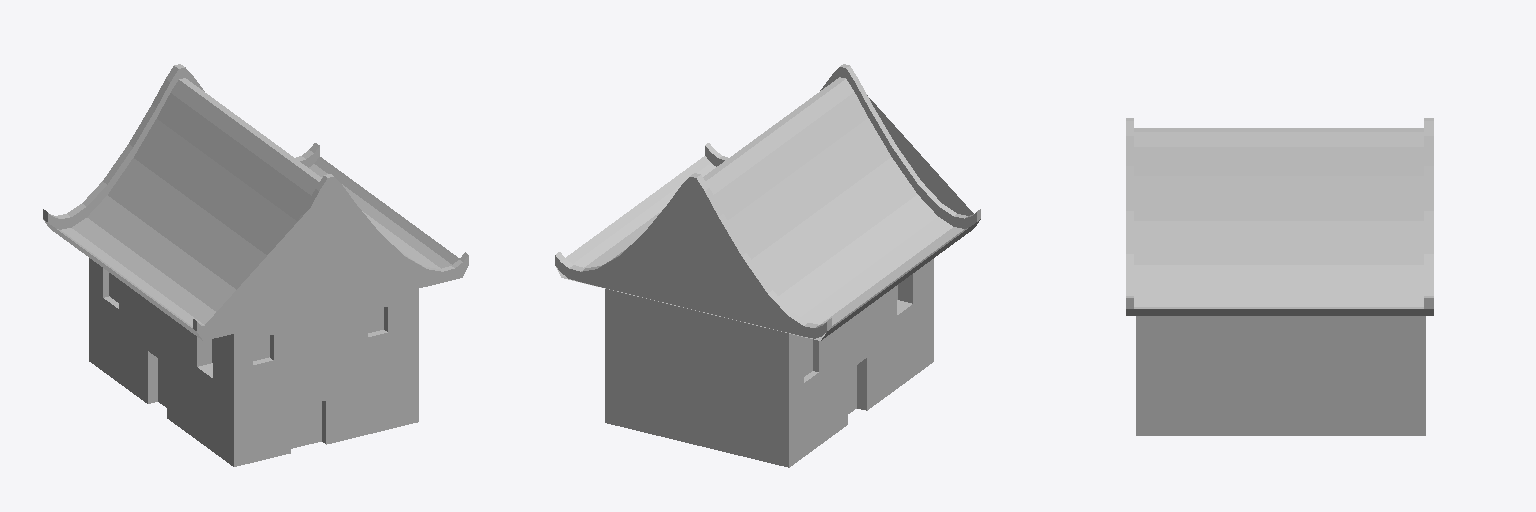
Rendered from haus4.obj.
The picture shows the model from 3 angles: view 1: azimuth 30°, elevation 25°; view 2: azimuth 150°, elevation 25°; view 3: azimuth 270°, elevation 25°; orthographic projection.
Visible parts, largest first — view 1: Arc002, Box001; view 2: Arc002, Box001; view 3: Arc002, Box001.
Part boxes in pixels (x1,y1,x2,y2): Arc002: (43,64,468,340); Box001: (89,258,418,466); Arc002: (555,64,980,340); Box001: (605,259,933,467); Arc002: (1126,118,1433,315); Box001: (1136,316,1425,435).
Bounding box in the file's own units: 745 × 709 × 729.